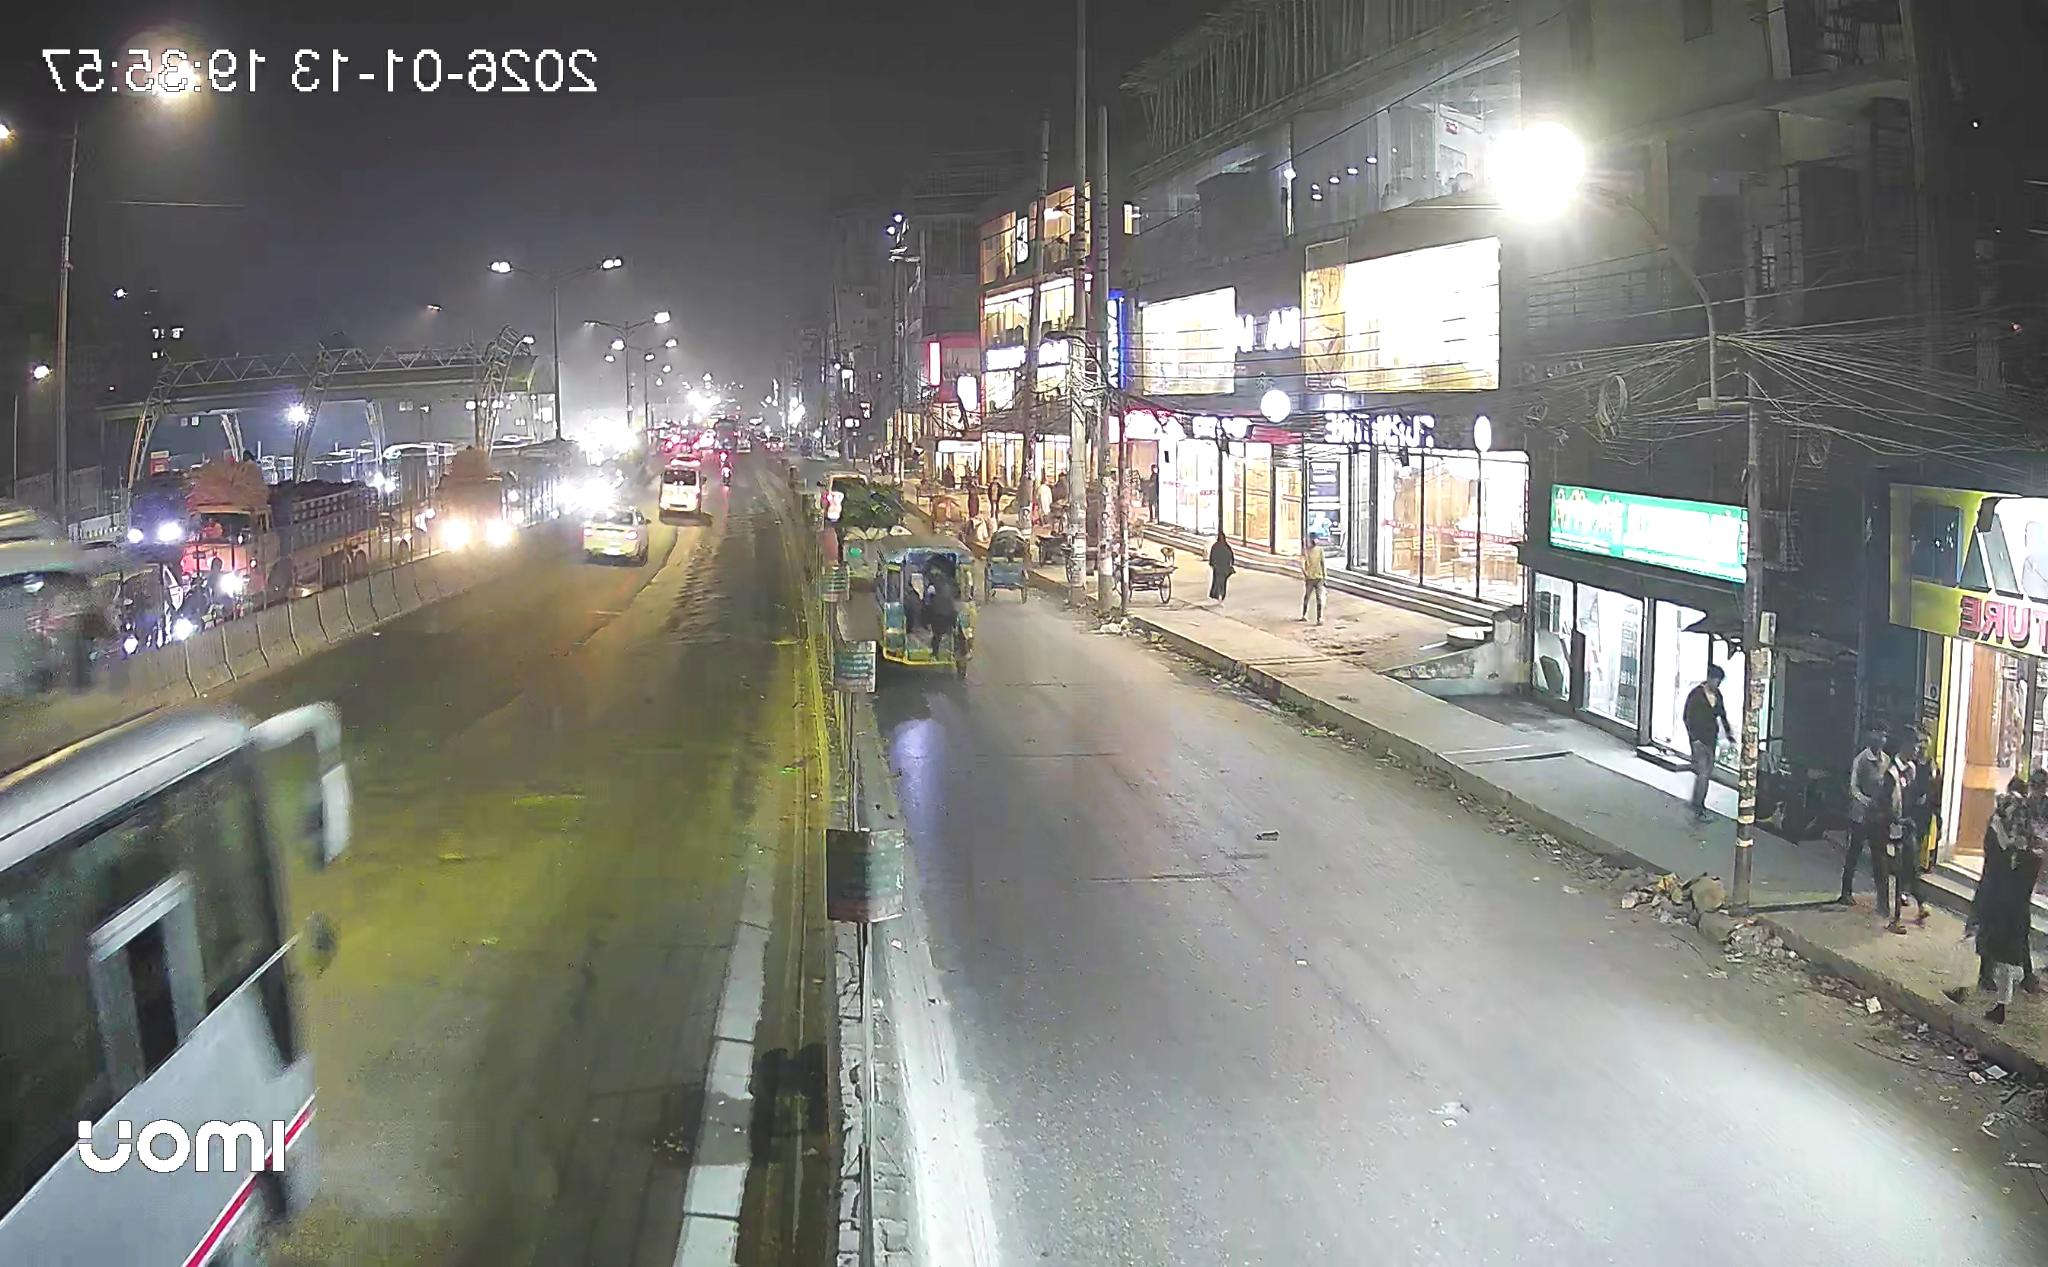Bus: (1, 701, 353, 1267)
Private-Sedan Car: (582, 505, 651, 565)
